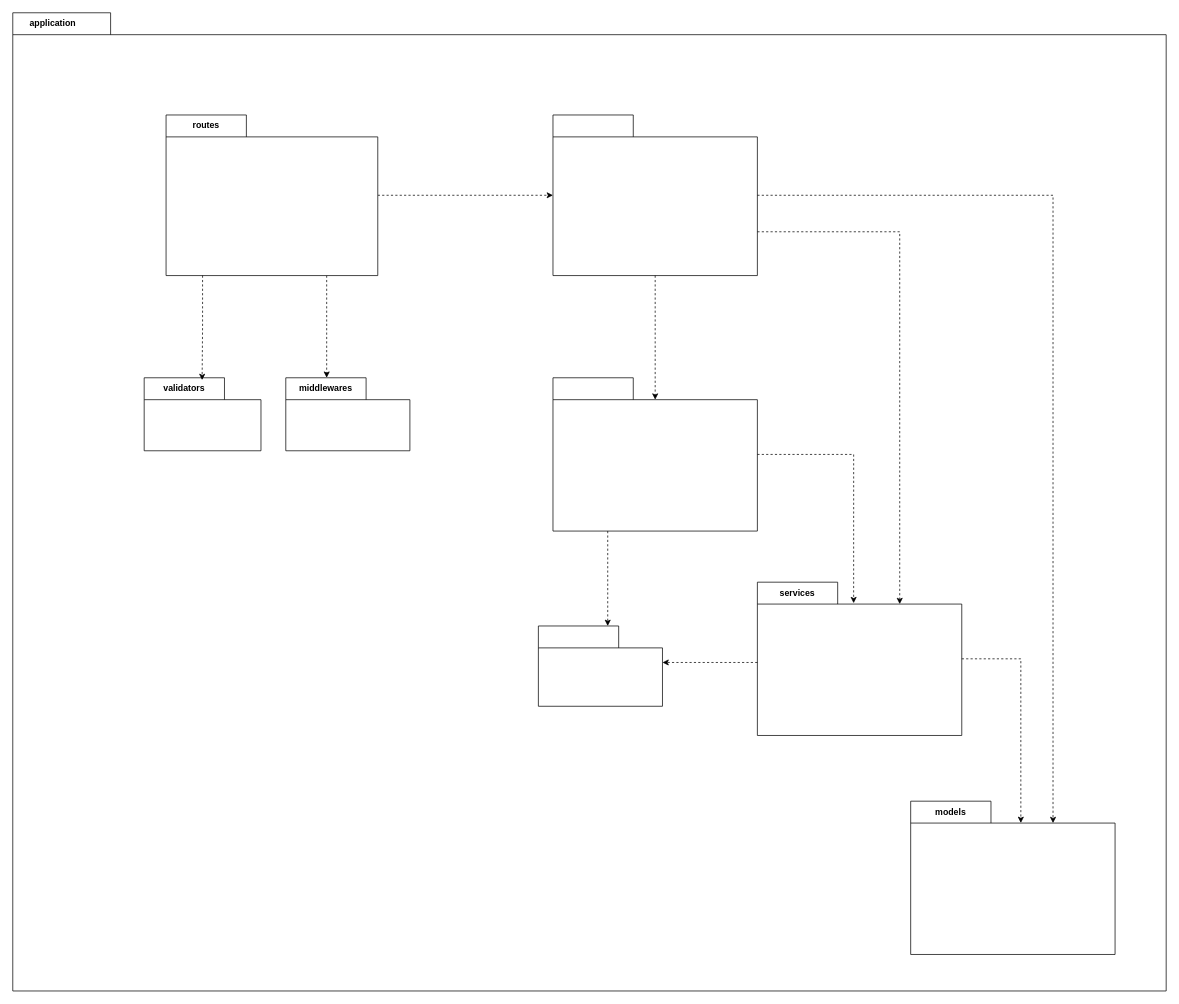
Image size: 1179x1004. Some labels were removed from this diagram. Here are the shapes that lost their labels. From the top down, the centre of each, then its label:
the point at 654,195: Configs
the point at 654,454: controllers
the point at 600,665: utils
